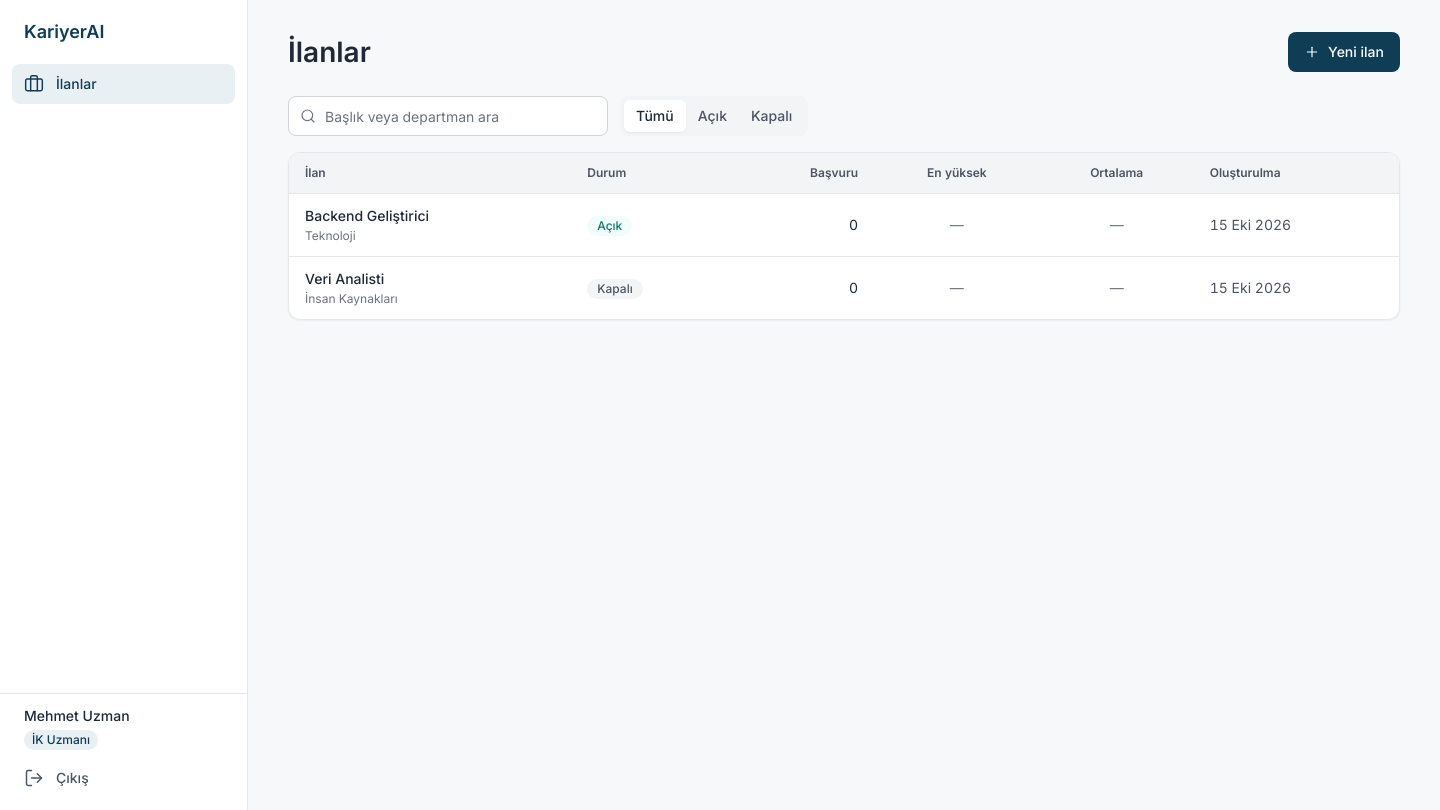
Test case: JobsPage › arama ve durum filtresiyle süzer
The image size is (1440, 810).
Expected: the link "Backend Geliştirici" is shown, [305,207,429,224]
In the search field named "İlan ara": (448, 116) [288,96,608,136], type "insan"
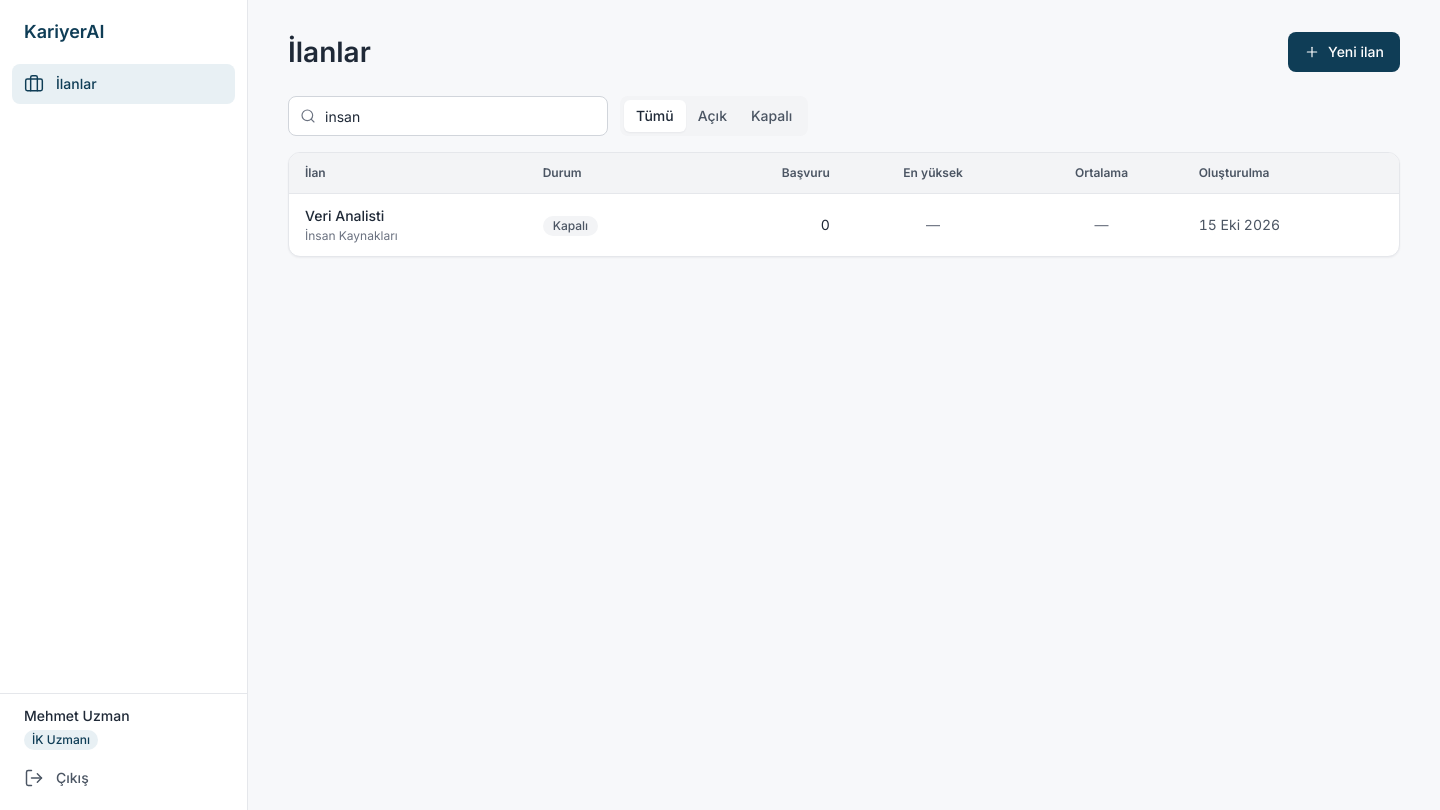
Expected: the link "Veri Analisti" is shown, [305,207,384,224]
Now the link "Backend Geliştirici" is gone
Clear the search field named "İlan ara": (448, 116) [288,96,608,136]
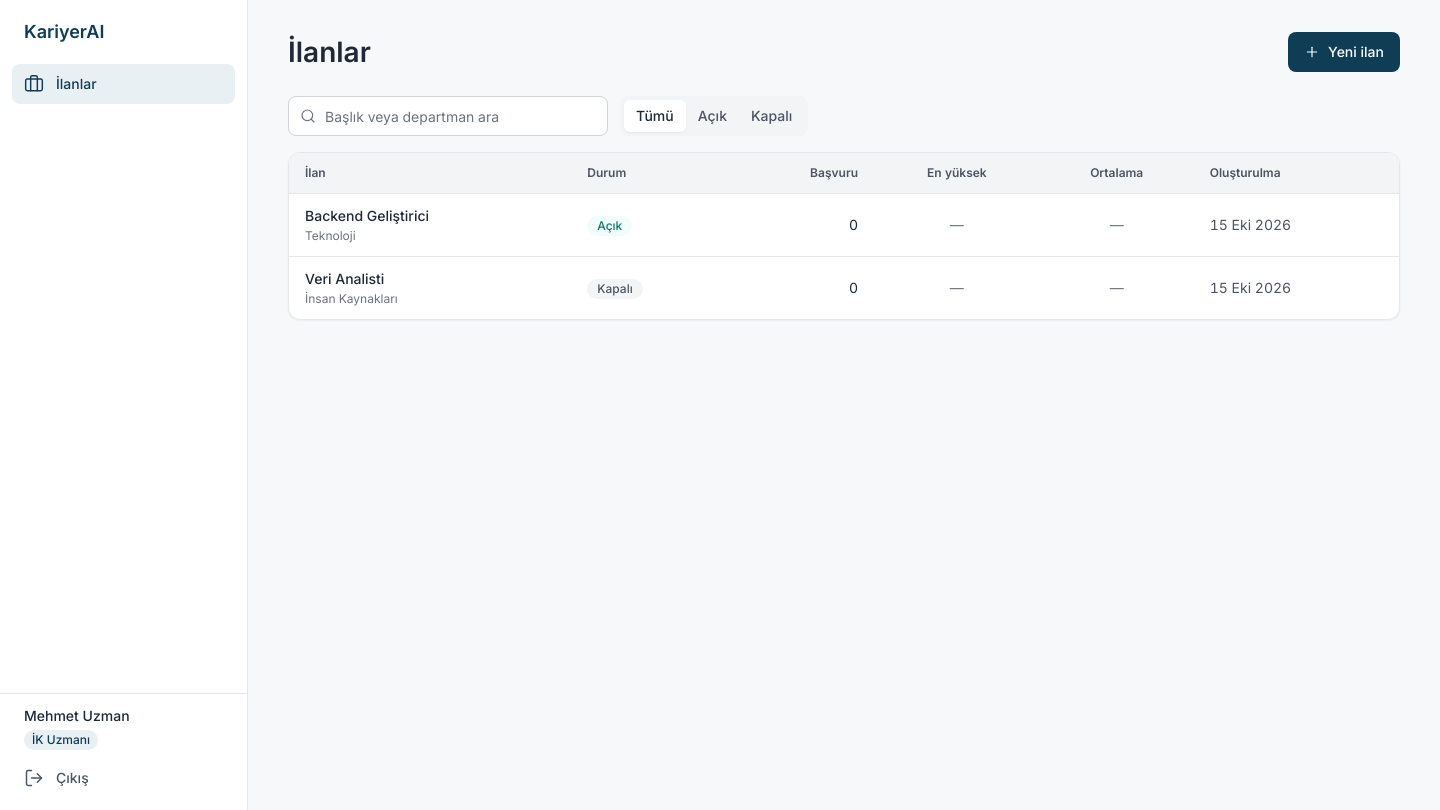
Click the radio button labelled "Açık": (712, 116) [686,100,739,132]
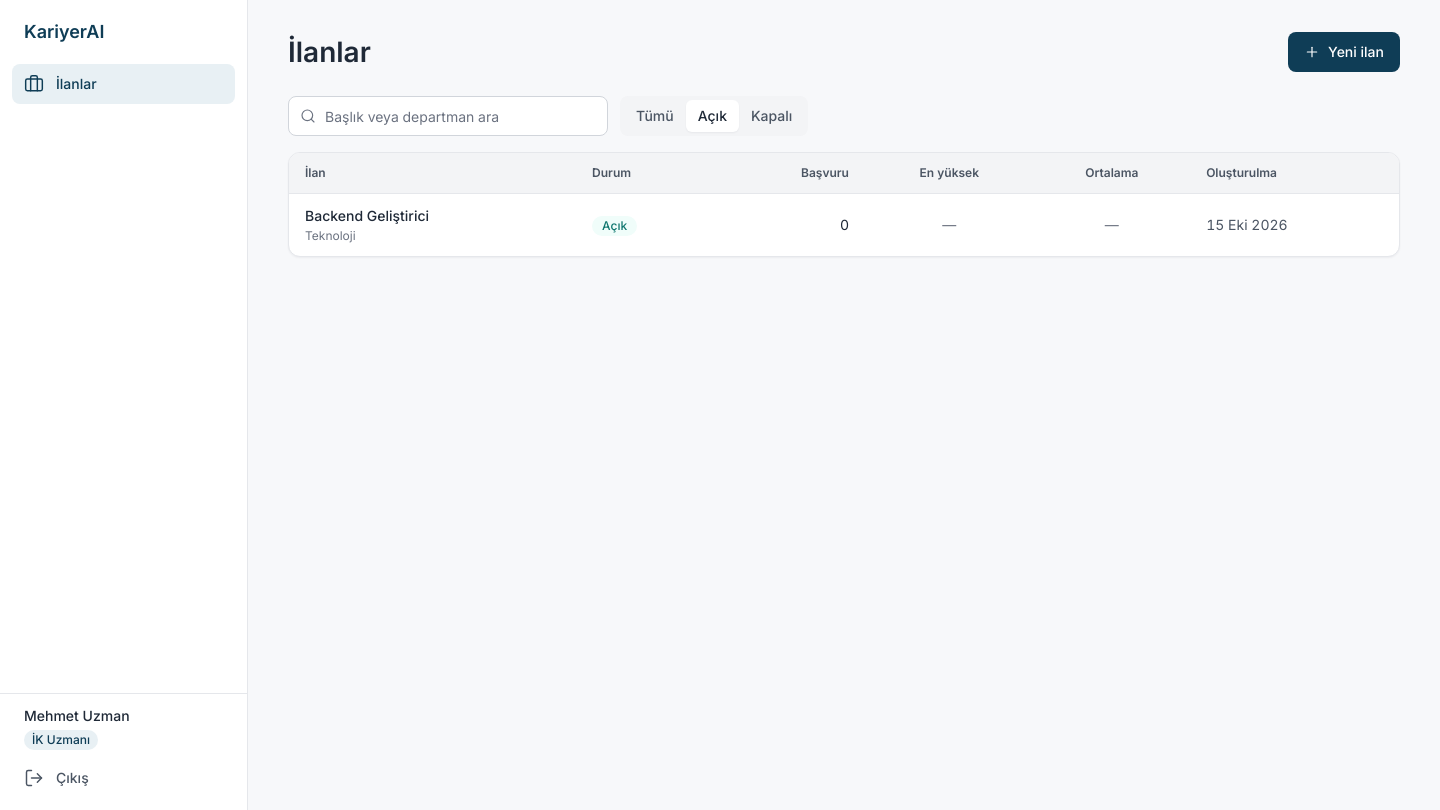
Now the link "Backend Geliştirici" is shown, box [305,207,429,224]
Now the link "Veri Analisti" is gone
